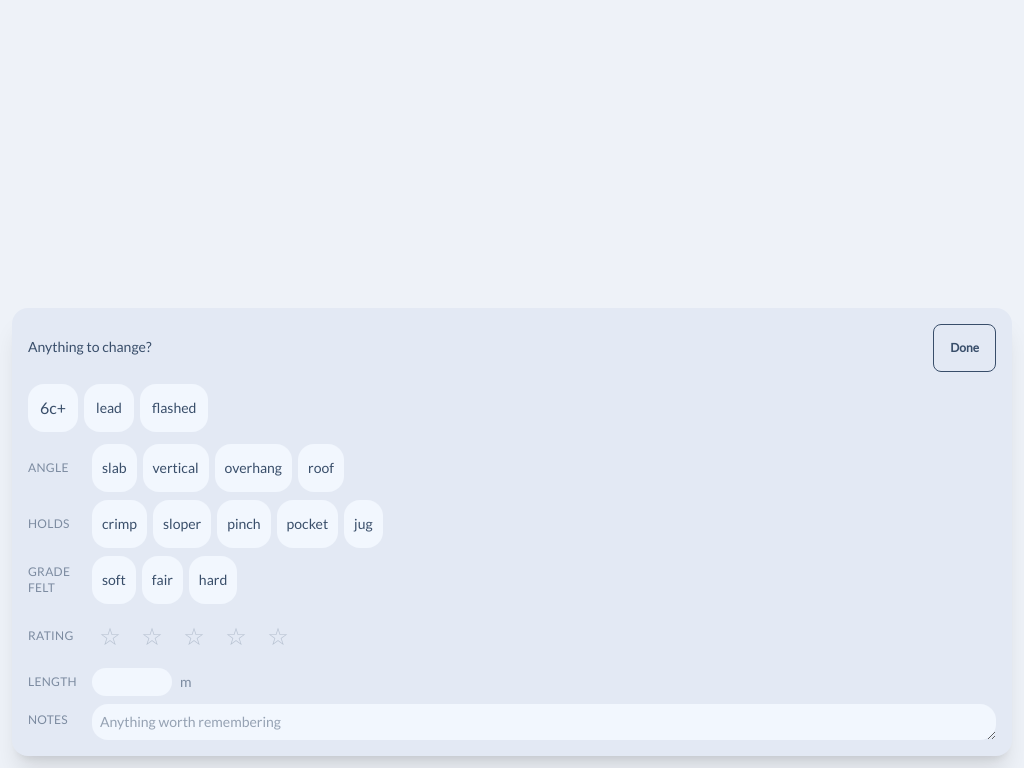
Test case: correcting what was recorded › replaces the detail panel rather than sitting under it
Expected: the button "overhang" is shown, [215,444,292,492]
Click the button named "Grade, 6c+".
click(53, 408)  # box [28,384,78,432]
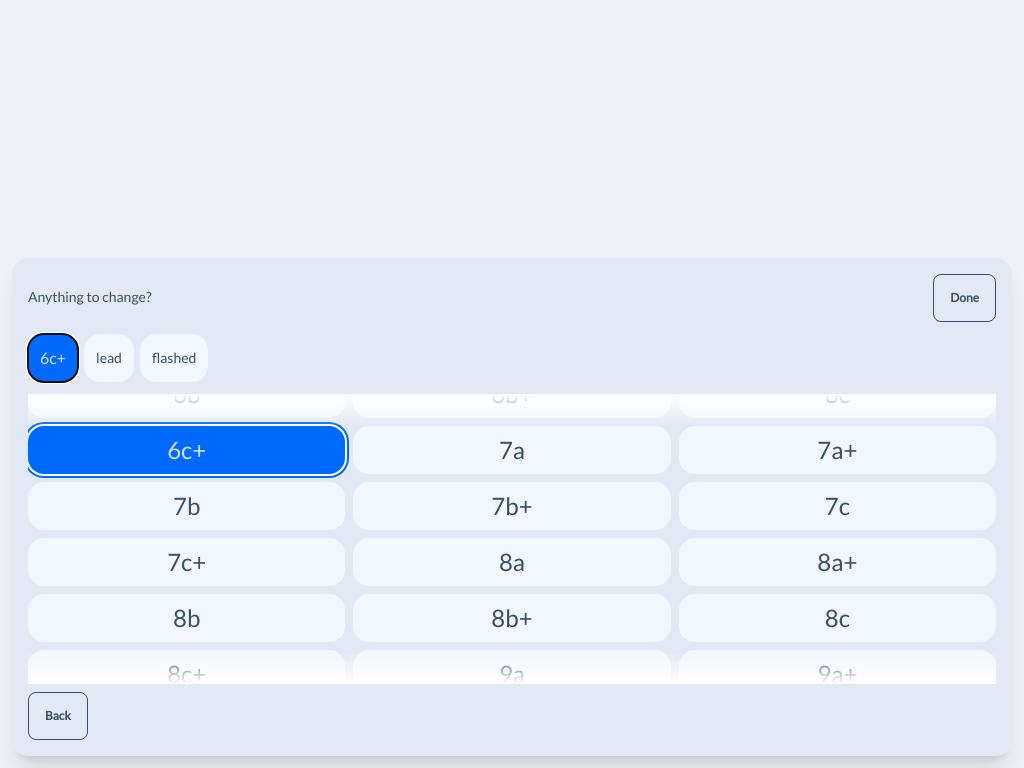
Now the button "overhang" is gone
